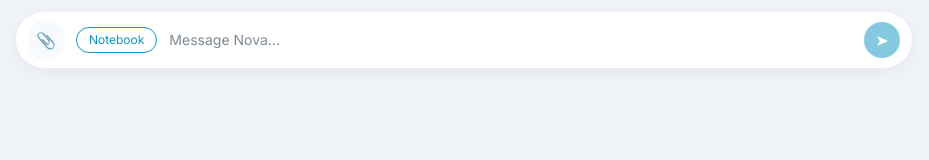
Test: ChatInput › re-enables send button after response
Expected: the button titled "send message" is disabled, [864,22,900,58]
Type "Test message" into the field with placeholder "Message Nova...".
click(511, 40); type("Test message")  # box [169,30,852,50]
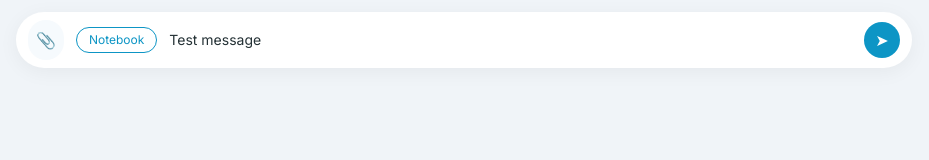
Now the button titled "send message" is enabled
Click the button titled "send message".
click(882, 40)  # box [864,22,900,58]
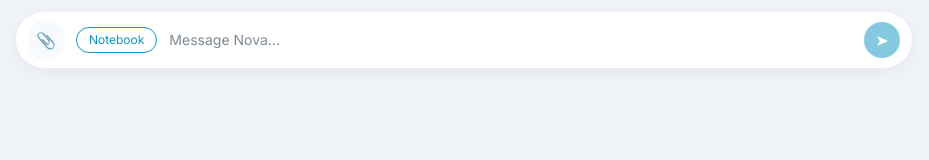
Now the button titled "send message" is disabled, box [864,22,900,58]
